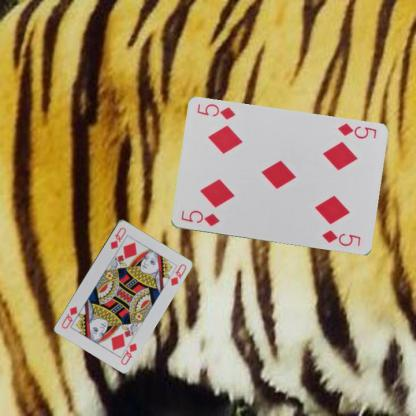5d: (178, 208, 221, 228), (334, 121, 378, 140)
Qd: (117, 336, 138, 366), (108, 224, 127, 250)
